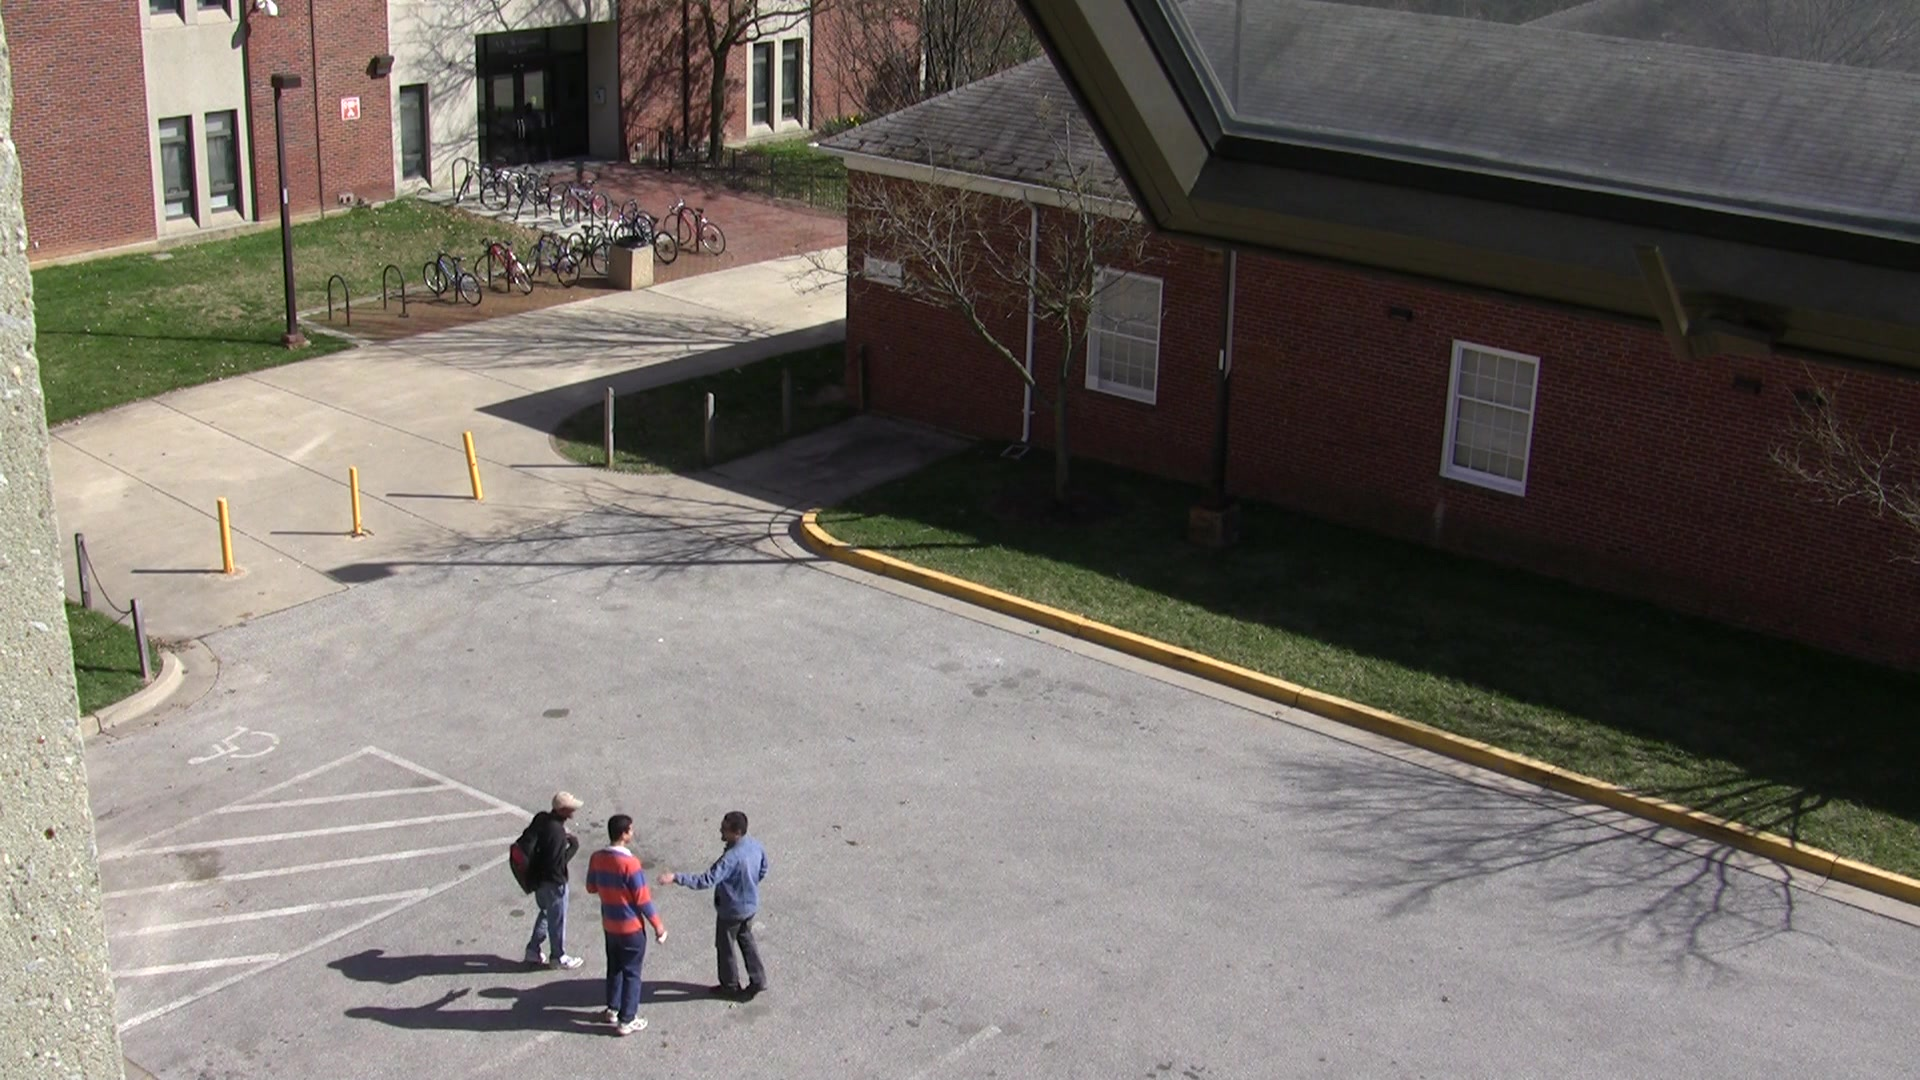person: (667, 803, 808, 1003), (488, 770, 590, 986), (573, 813, 658, 1041)
